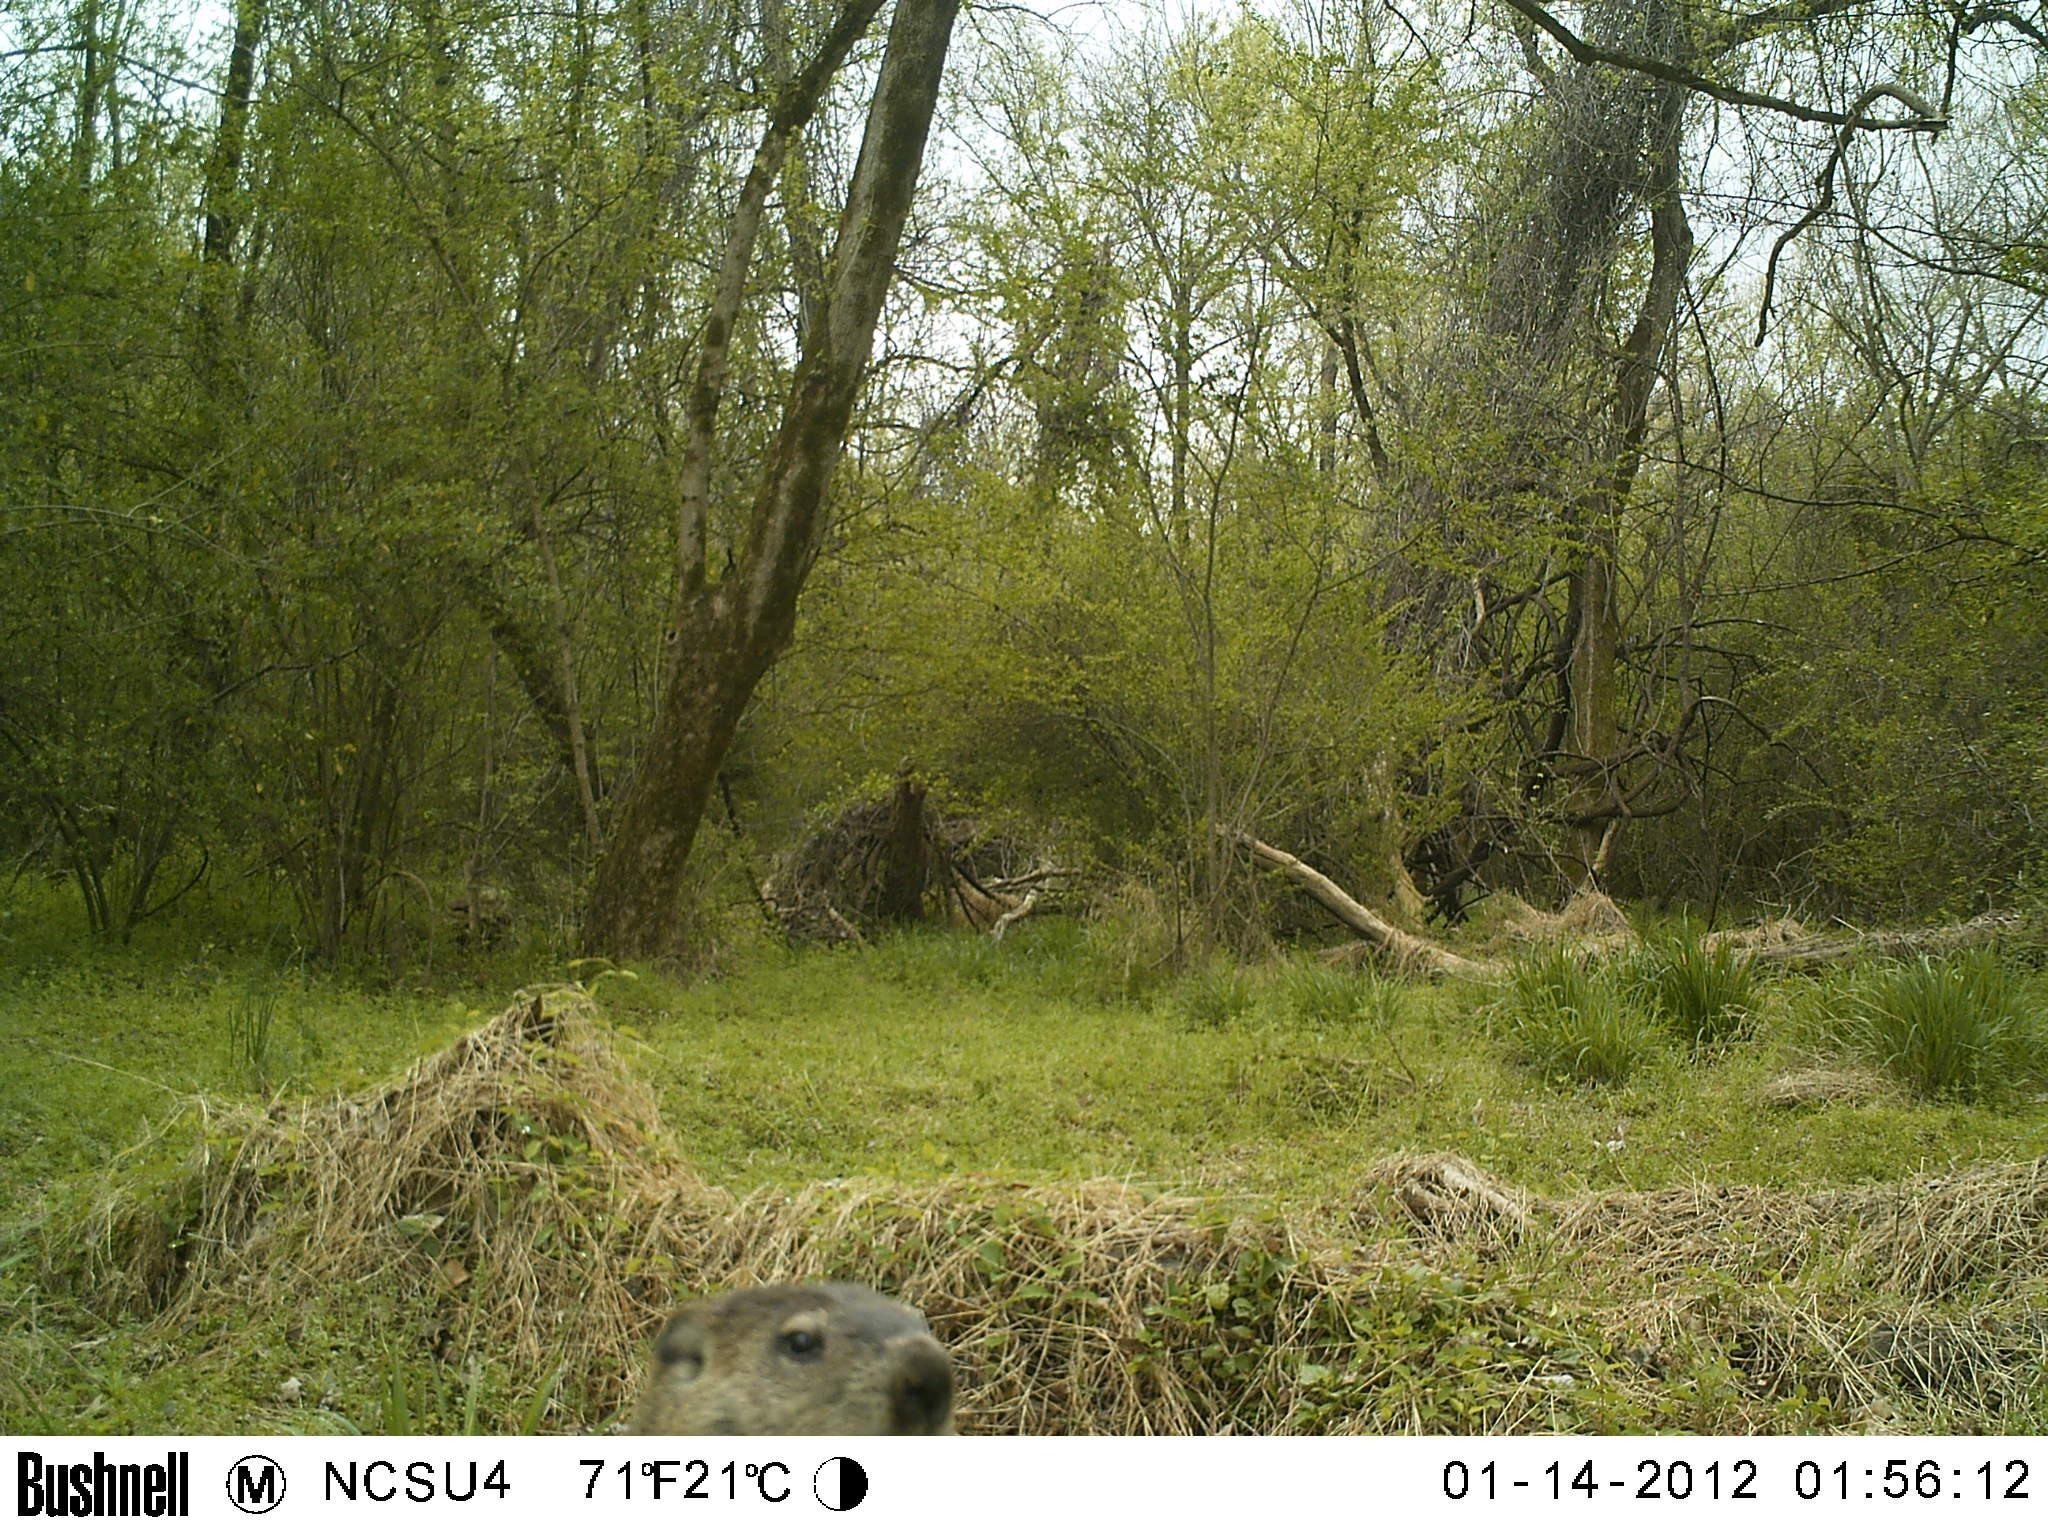Animal: (632, 1279, 956, 1436)
